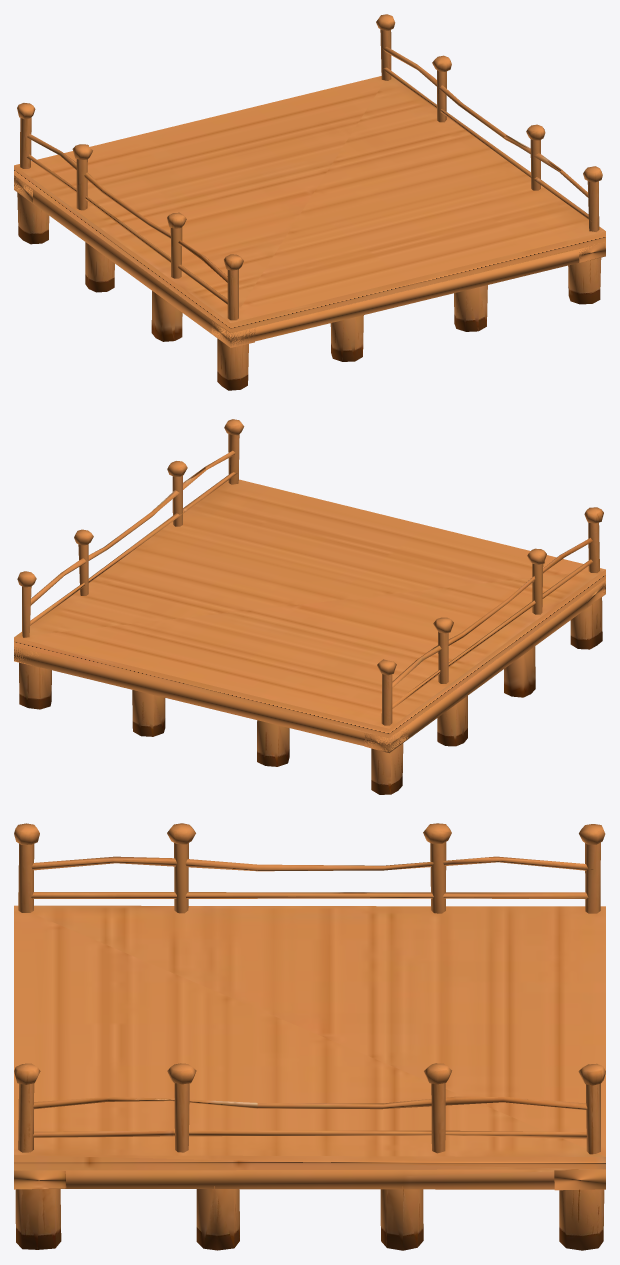
File: pier_segment.glb
3 renders of one model, top to bottom at view 1: azimuth 30°, elevation 25°; view 2: azimuth 150°, elevation 25°; view 3: azimuth 270°, elevation 25°, orthographic. The views are drawn at different scales.
Size of the model in its own units: 1 by 0.3368 by 1.
1 material, 1 textured.
